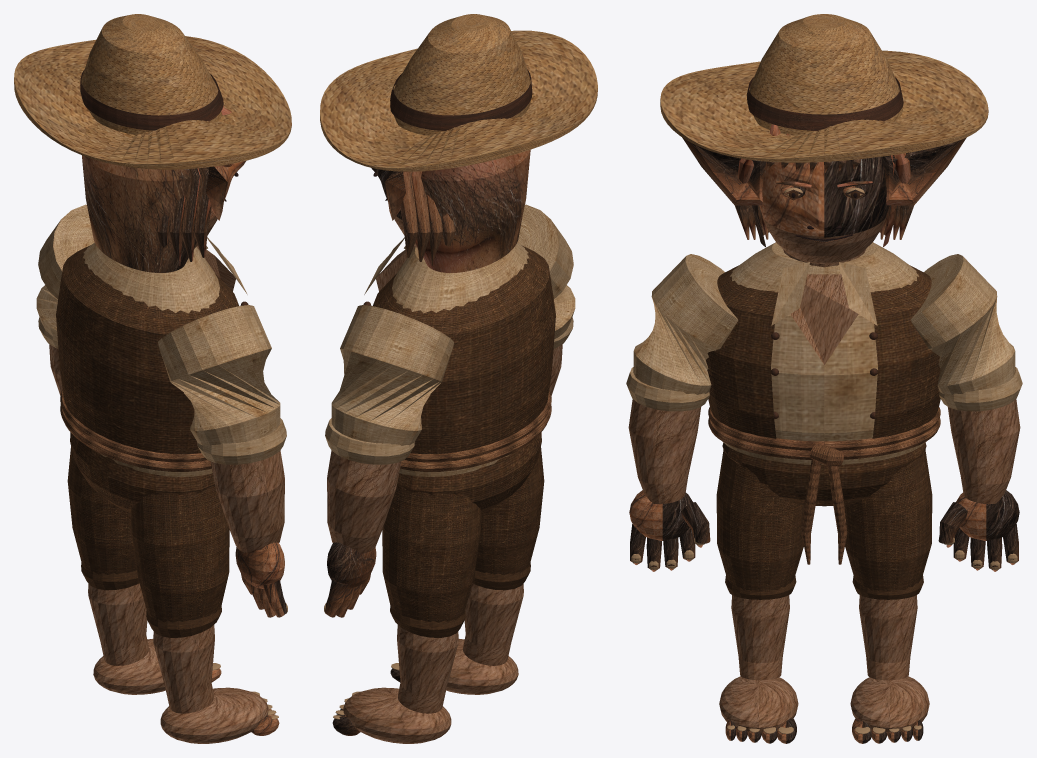
File: pombero.obj
3 views of the same model, side by side, from view 1: azimuth 30°, elevation 25°; view 2: azimuth 150°, elevation 25°; view 3: azimuth 270°, elevation 25° (orthographic). The views are drawn at different scales.
Bounding box in the file's own units: 10.63 × 32.01 × 16.83.
11 materials, 11 textured.
